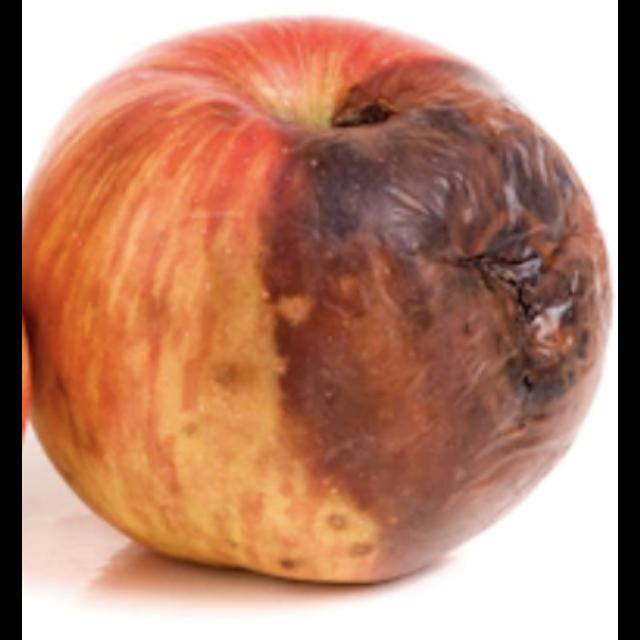Apel Tidak Segar: (31, 23, 608, 609)
